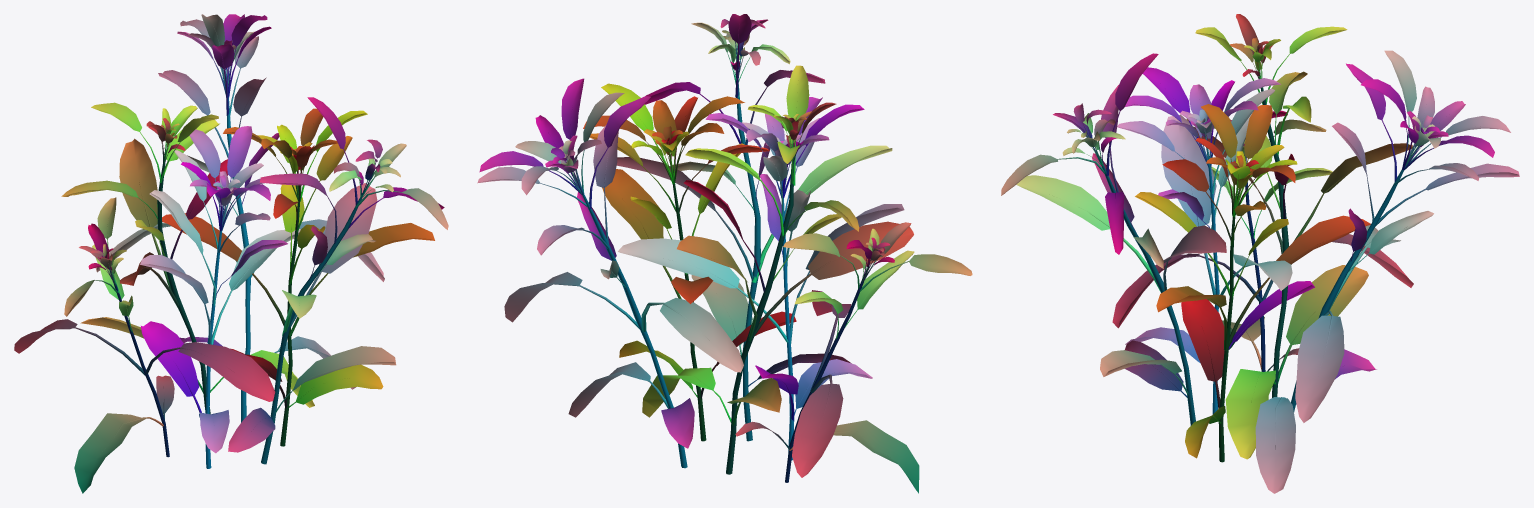
File: Sage_ve3gbfoja_Mid_ve3gbfoja_VarF_LOD0.fbx
3 views of the same model, side by side, from view 1: azimuth 30°, elevation 25°; view 2: azimuth 150°, elevation 25°; view 3: azimuth 270°, elevation 25° (orthographic). The views are drawn at different scales.
Parts seen in each view (by area): view 1: _2btd_VarF_LOD1; view 2: _2btd_VarF_LOD1; view 3: _2btd_VarF_LOD1.
Part boxes in pixels (<box>): _2btd_VarF_LOD1: <box>14,14,448,493</box>; _2btd_VarF_LOD1: <box>477,14,972,493</box>; _2btd_VarF_LOD1: <box>1001,14,1519,493</box>.
Bounding box in the file's own units: 50.64 × 48.81 × 55.78.
